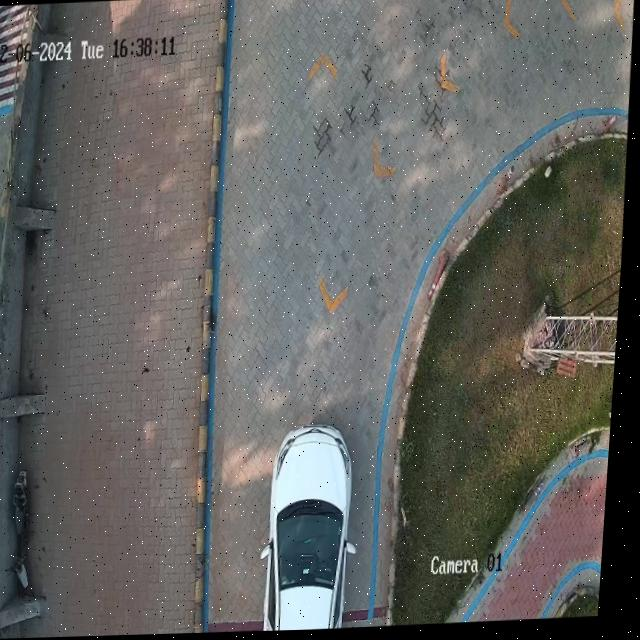car: (269, 427, 364, 633)
